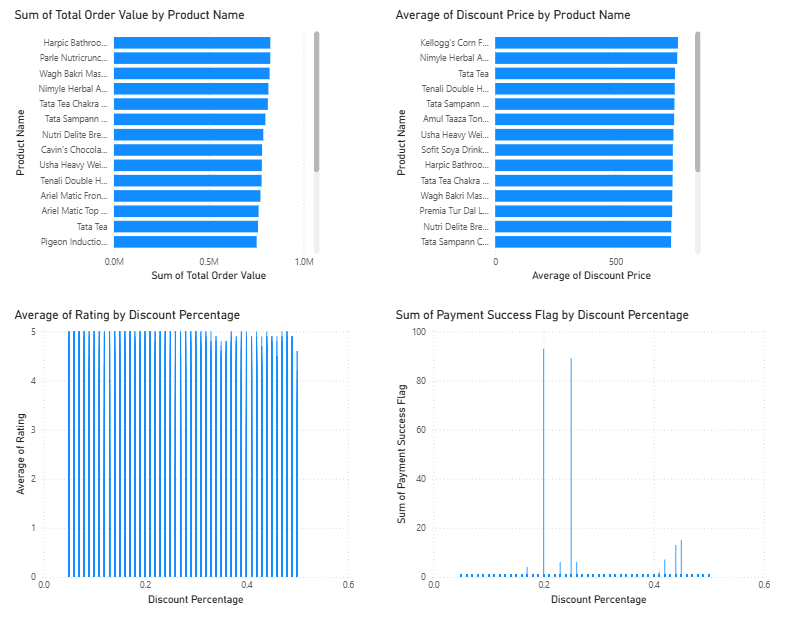

What the dashboard file says about the page in this screenshot:
{"tool":"powerbi","page":{"name":"PRODUCT & PRICING INSIGHTS","canvas":[1280,1000],"ordinal":2},"visuals":[{"type":"clusteredBarChart","fields":{"Category":["Dim_Product.Product Name"],"Y":["Sum(Fact_Orders.Total Order Value)"]},"box":[32,32,432,384],"z":0},{"type":"barChart","fields":{"Category":["Dim_Product.Product Name"],"Y":["Avg(Fact_Orders.Discount Price)"]},"box":[560,32,432,384],"z":1},{"type":"columnChart","fields":{"Category":["Fact_Orders.Discount Percentage"],"Y":["Avg(Fact_Orders.Rating)"]},"box":[32,448,480,416],"z":2},{"type":"columnChart","fields":{"Y":["Sum(Fact_Orders.Payment Success Flag)"],"Category":["Fact_Orders.Discount Percentage"]},"box":[560,448,528,416],"z":3}]}

Visuals, with their boxes in screenshot pixels (x1, y1, x2, y2), scaled from the page's 1280x1000 canvas onto the 800x637 screenshot:
clusteredBarChart - Dim_Product.Product Name x Sum(Fact_Orders.Total Order Value): [left=20, top=20, right=290, bottom=265]
barChart - Dim_Product.Product Name x Avg(Fact_Orders.Discount Price): [left=350, top=20, right=620, bottom=265]
columnChart - Fact_Orders.Discount Percentage x Avg(Fact_Orders.Rating): [left=20, top=285, right=320, bottom=550]
columnChart - Sum(Fact_Orders.Payment Success Flag) x Fact_Orders.Discount Percentage: [left=350, top=285, right=680, bottom=550]
